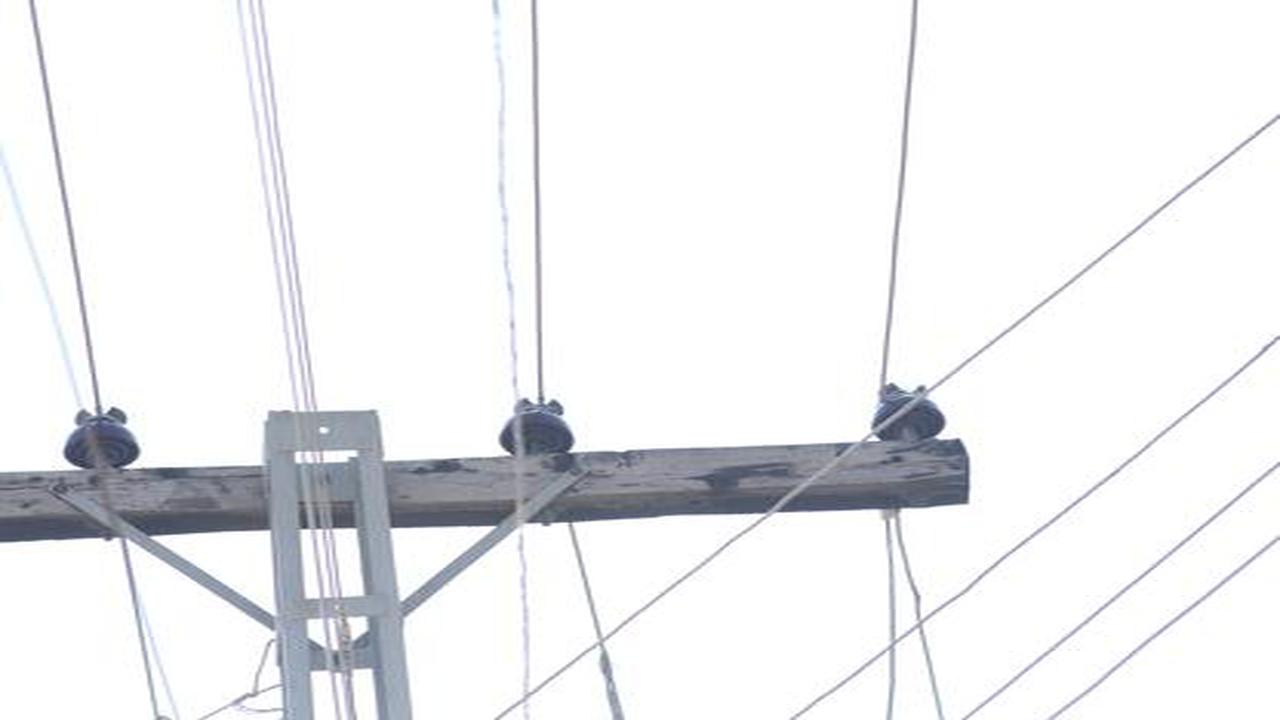insulator_pin: (489, 391, 582, 461), (868, 374, 952, 446), (60, 406, 144, 473)
